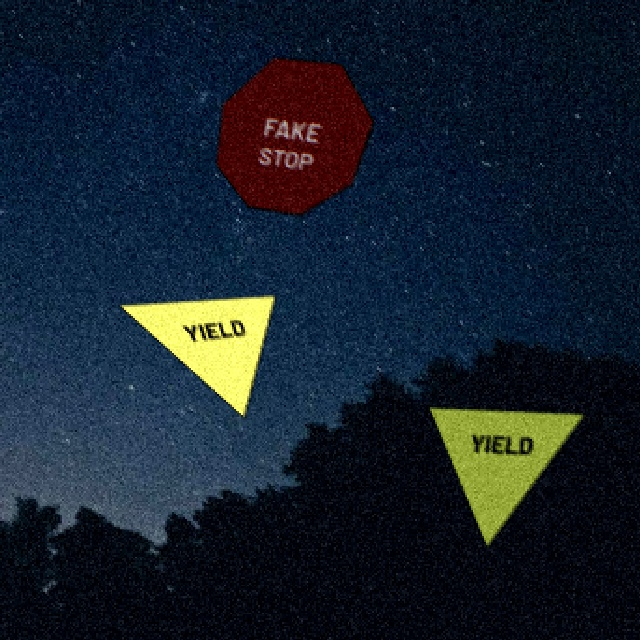FAKE_STOP: (214, 56, 373, 215)
YIELD: (426, 406, 585, 548), (116, 294, 275, 418)
